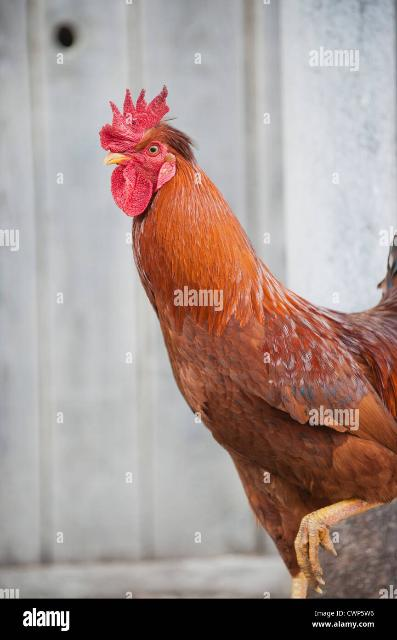Chicken: (99, 84, 397, 598)
